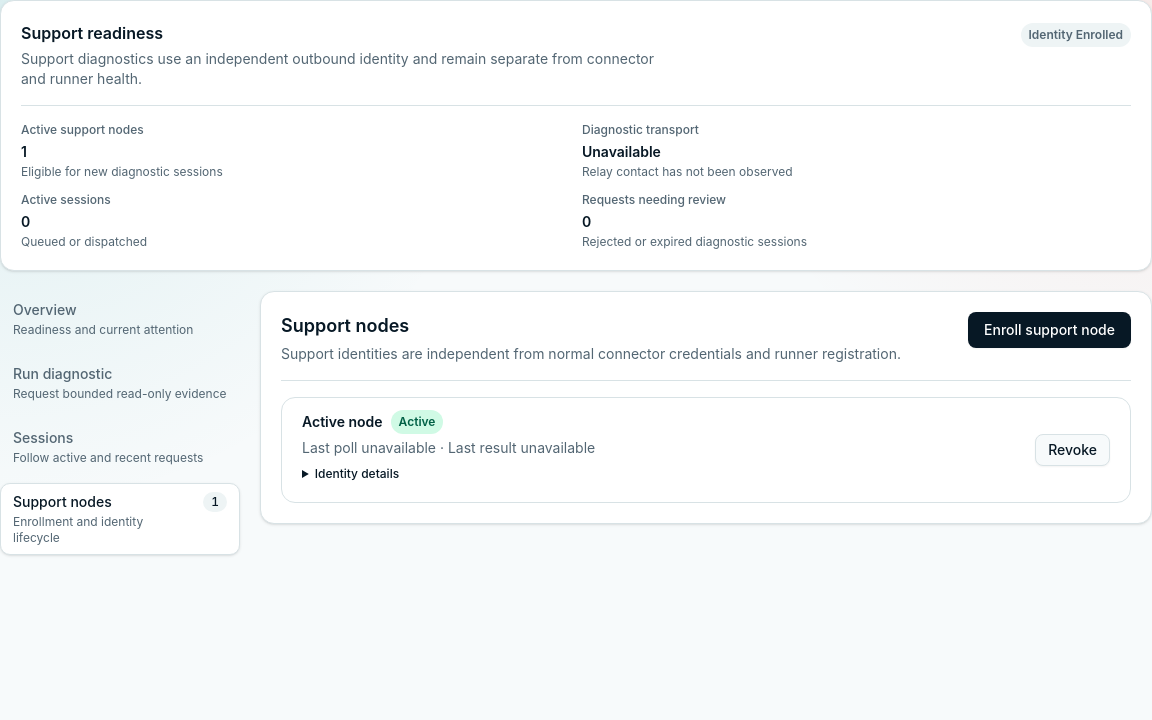
SupportPage › keeps enrollment collapsed until the operator requests it
The width and height of the screenshot is (1152, 720).
Check: the heading "Support nodes" is shown, box [281,312,409,340]
Check: the element "Create node enrollment" is not shown
Click the button "Enroll support node" at [1050, 330], box [968,312,1131,348]
(page scrolled)
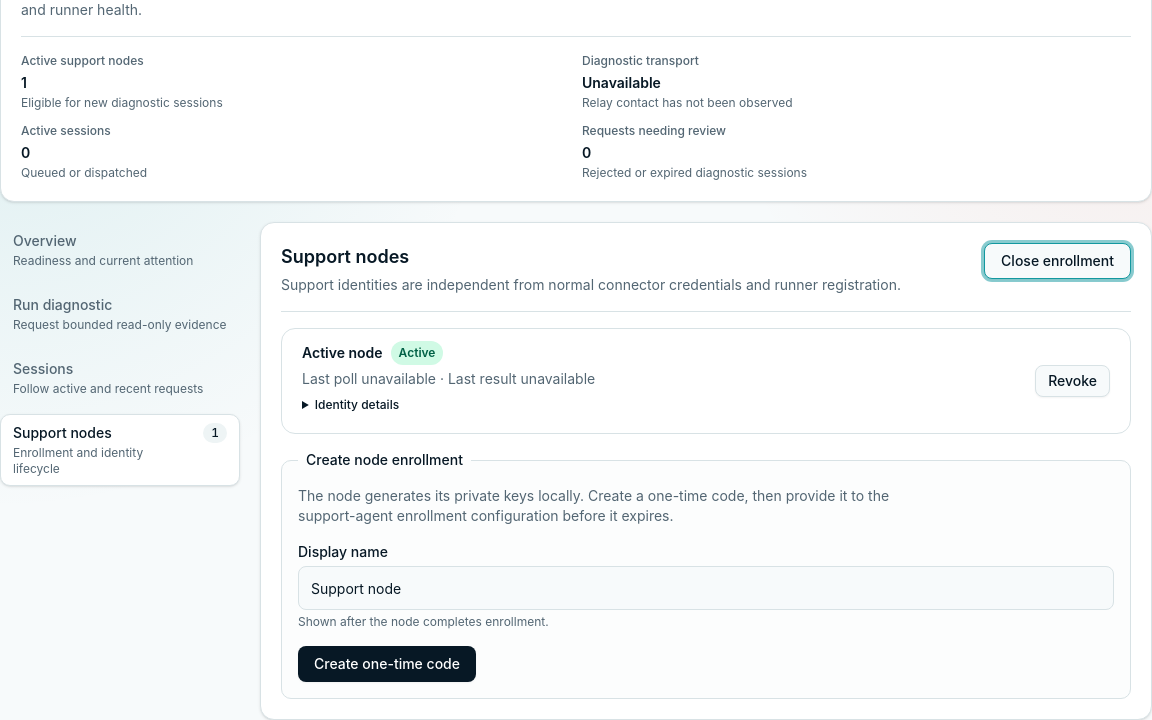
Check: the element "Create node enrollment" is shown, box [281,450,1131,699]
